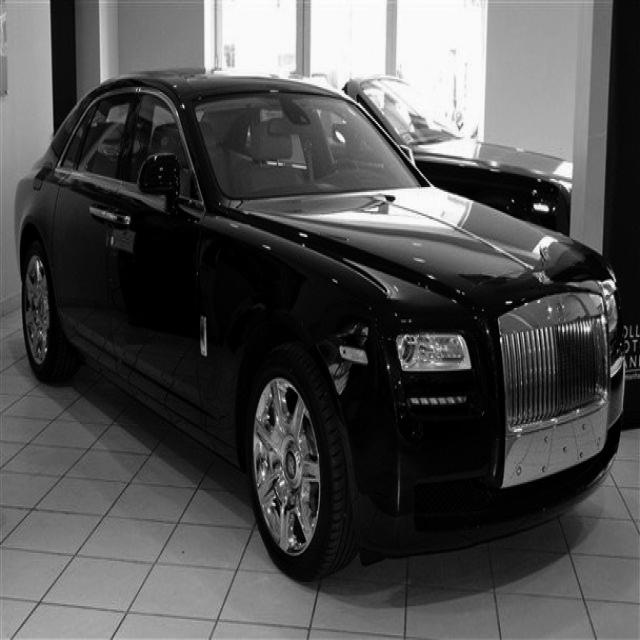car: (14, 66, 626, 582)
